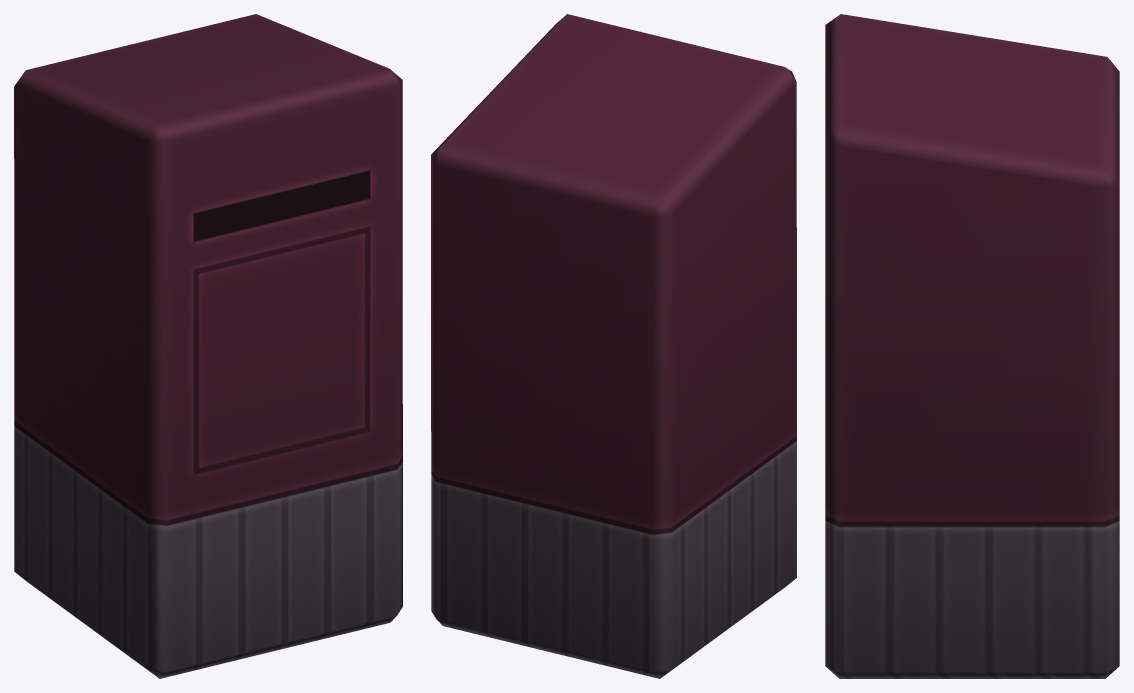
The model's file is mesh_mailbox.fbx.
3 views of the same model, side by side, from view 1: azimuth 30°, elevation 25°; view 2: azimuth 150°, elevation 25°; view 3: azimuth 270°, elevation 25° (orthographic). The views are drawn at different scales.
Parts seen in each view (by area): view 1: mesh_mailbox; view 2: mesh_mailbox; view 3: mesh_mailbox.
Boxes of the visible parts, x1=… form: mesh_mailbox: x1=14, y1=14, x2=402, y2=678; mesh_mailbox: x1=431, y1=14, x2=796, y2=678; mesh_mailbox: x1=825, y1=14, x2=1119, y2=678.
Size of the model in its own units: 60.7 by 126 by 60.7.
